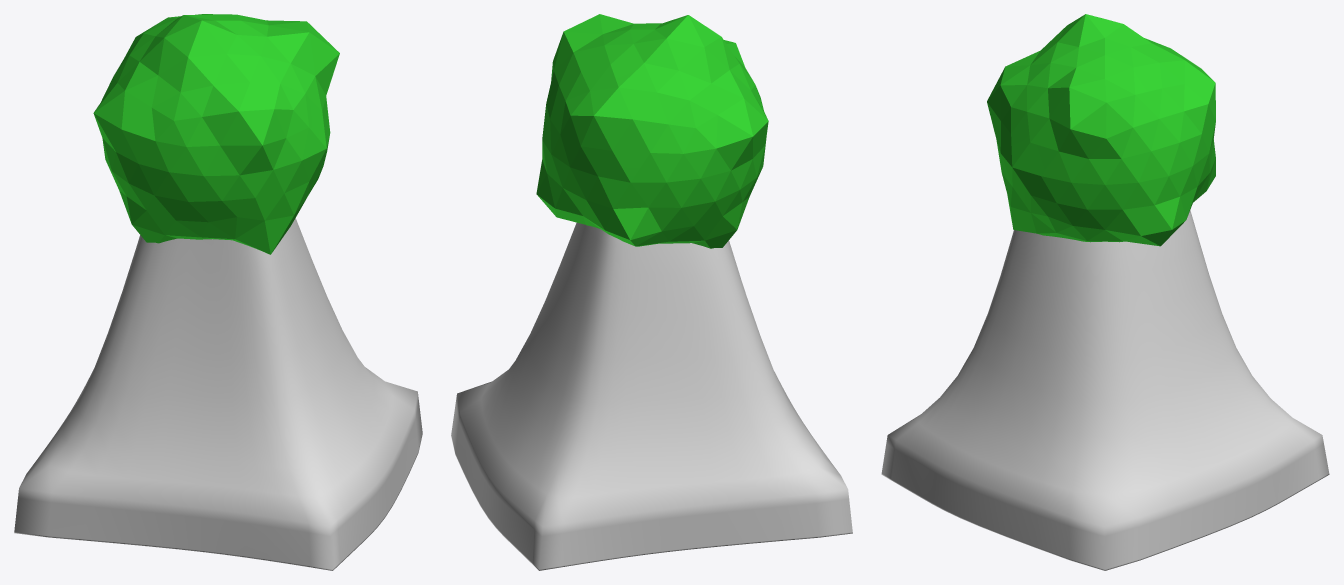
Rendered from Lamp 1.fbx.
The picture shows the model from 3 angles, left to right: view 1: azimuth 30°, elevation 25°; view 2: azimuth 150°, elevation 25°; view 3: azimuth 270°, elevation 25°; orthographic projection. The views are drawn at different scales.
Visible parts, largest first — view 1: Lamp, Light_source; view 2: Lamp, Light_source; view 3: Lamp, Light_source.
Boxes of the visible parts, <box> form: Lamp: <box>14,218,422,570</box>; Light_source: <box>93,14,339,254</box>; Lamp: <box>451,222,852,570</box>; Light_source: <box>536,14,768,248</box>; Lamp: <box>881,210,1329,570</box>; Light_source: <box>987,14,1215,246</box>.
Bounding box in the file's own units: 102 × 114 × 103.
